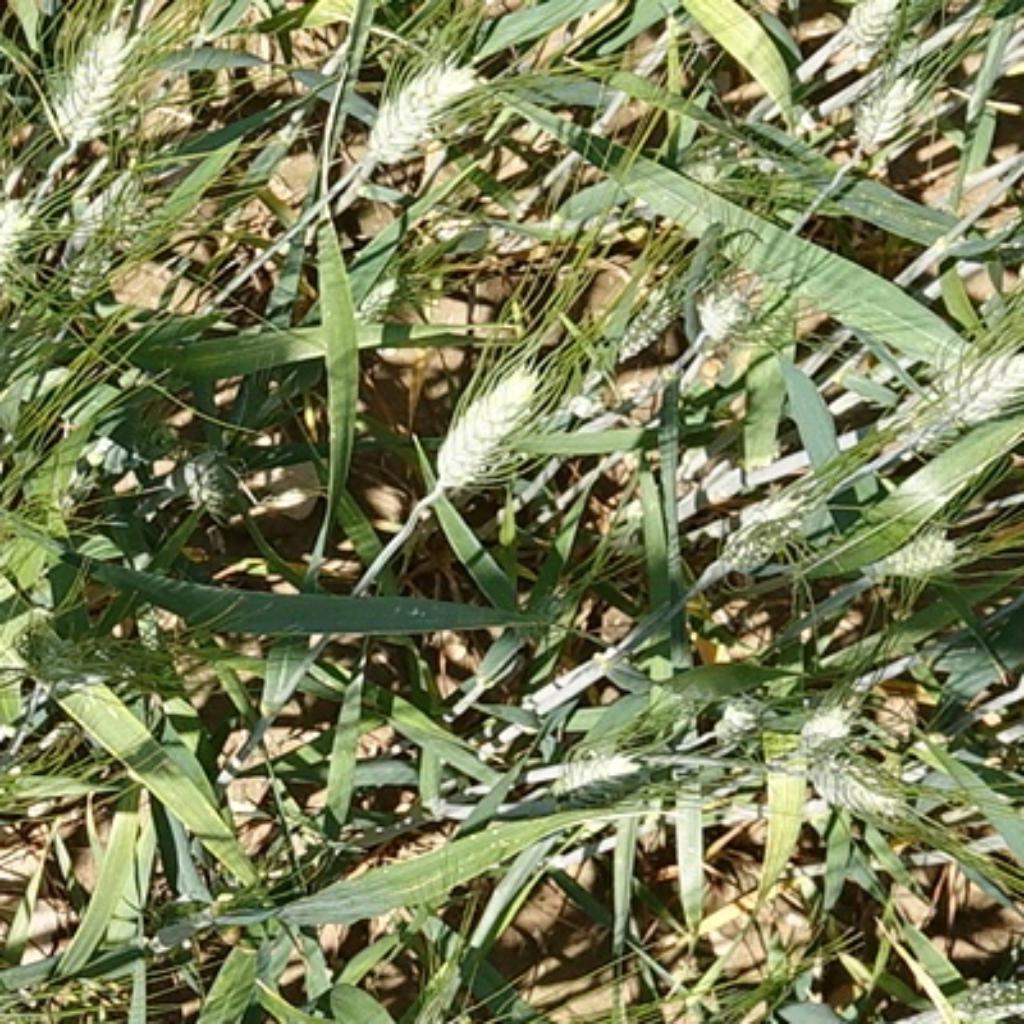0-0: (436, 352, 542, 488), (365, 44, 481, 163), (678, 256, 793, 353), (54, 22, 148, 140), (718, 472, 824, 573), (917, 335, 1024, 435), (596, 271, 686, 371), (29, 621, 164, 685), (798, 738, 908, 816), (844, 58, 928, 154), (175, 445, 256, 528), (870, 519, 965, 581), (835, 1, 924, 62), (554, 737, 642, 798), (788, 686, 860, 752), (709, 683, 778, 747), (0, 198, 40, 274)
